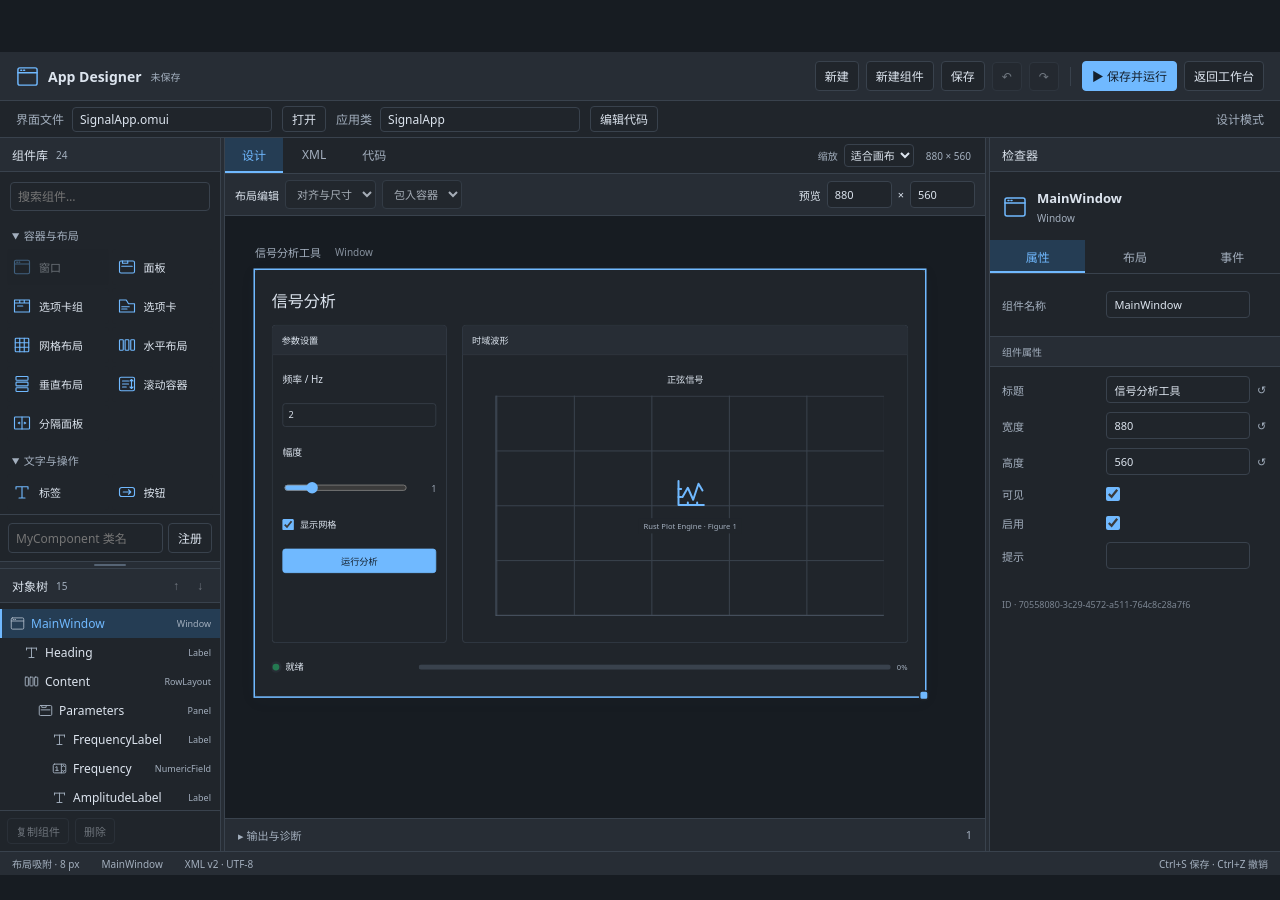
Test: App Designer workbench › reports external revision conflicts and never overwrites newer file contents
This screenshot has width=1280, height=900.
Click the button "保存" at (963, 76), box [941, 61, 985, 91]
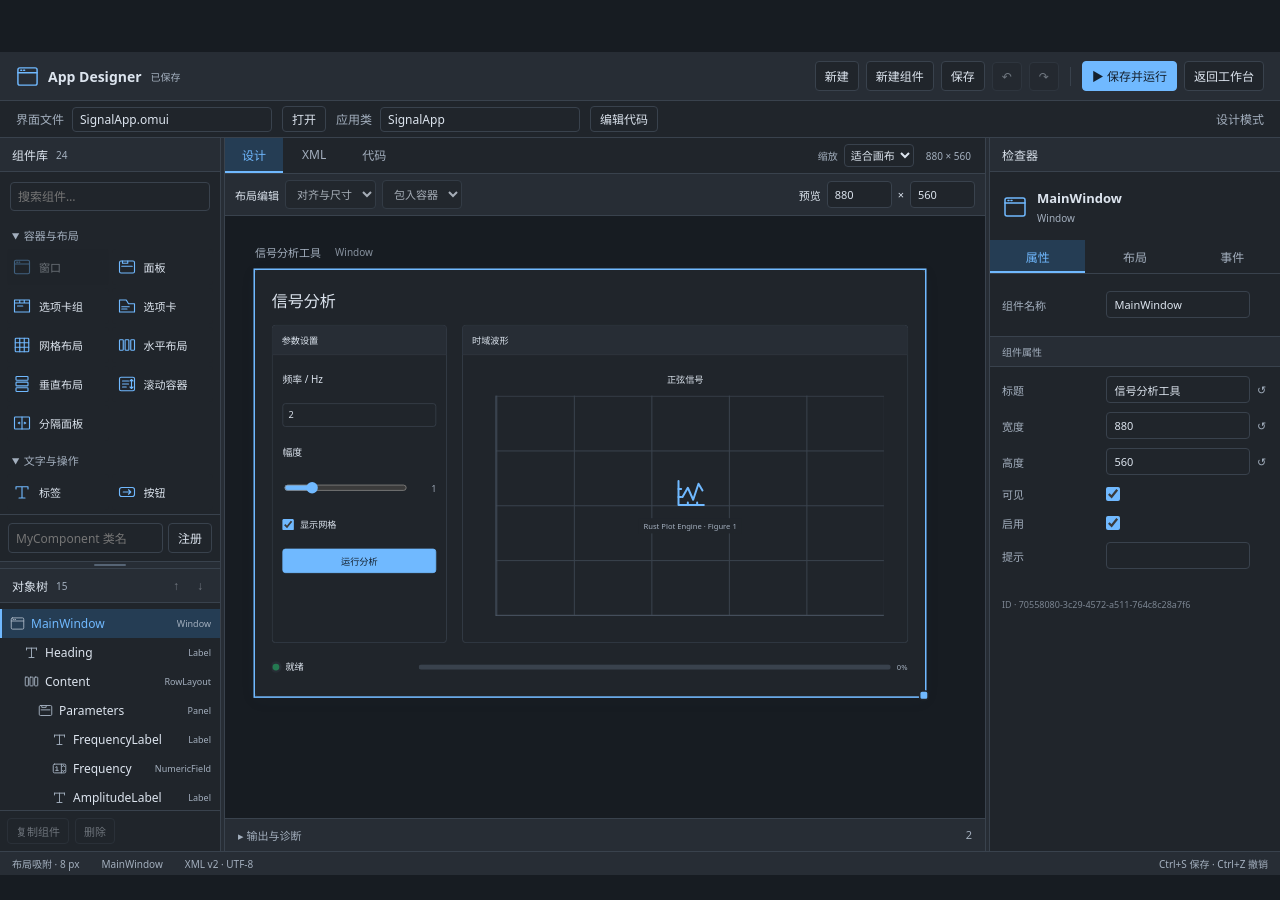
Replace the text in the field labelled "标题" with "My changed title" at (1178, 390), box [1106, 376, 1250, 403]
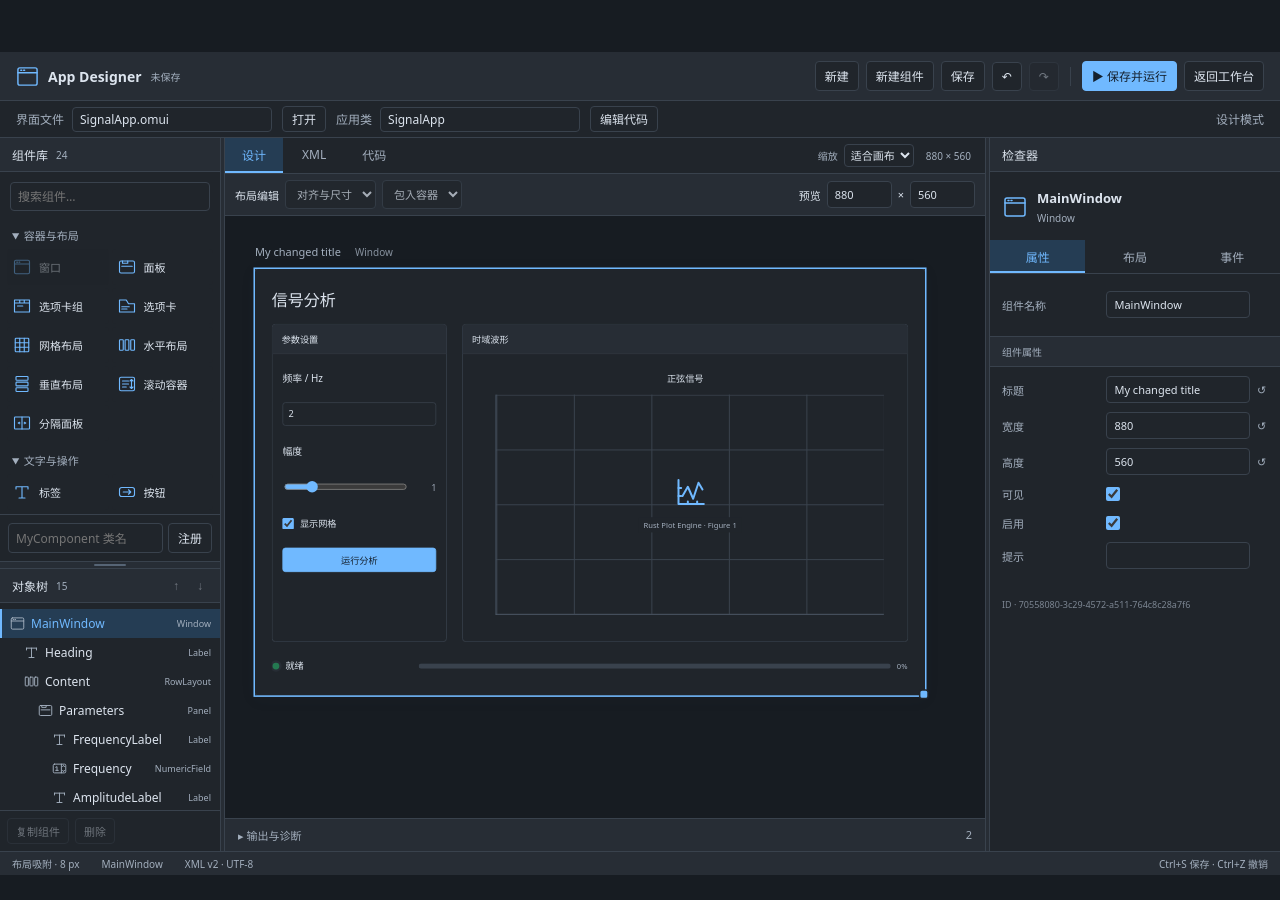
Click the button "保存" at (963, 76), box [941, 61, 985, 91]
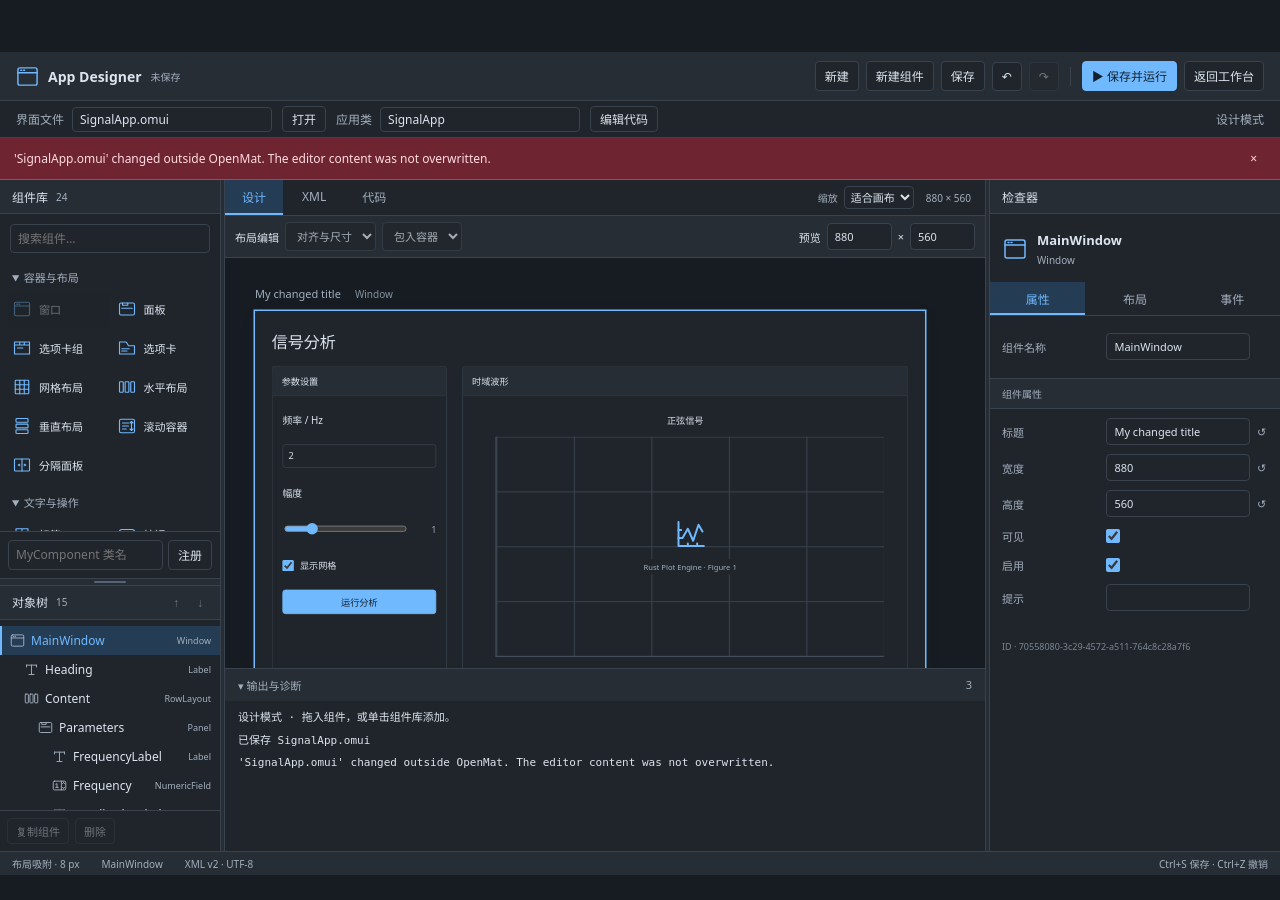
Now the message is shown, box [0, 138, 1279, 180]
